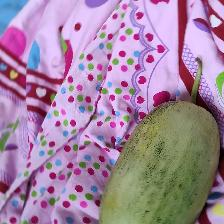gua: (116, 84, 211, 223)
